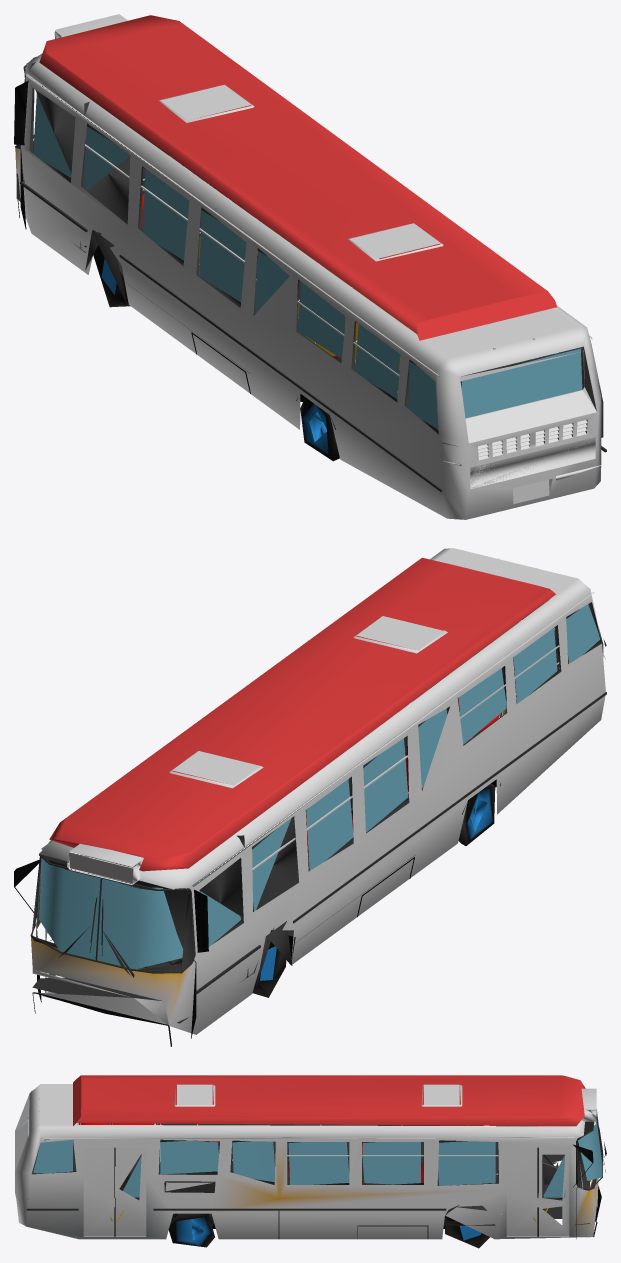
The model's file is town_bus_lod1.gltf.
3 views of the same model, one above another, from view 1: azimuth 30°, elevation 25°; view 2: azimuth 150°, elevation 25°; view 3: azimuth 270°, elevation 25° (orthographic). The views are drawn at different scales.
Visible parts, largest first — view 1: Body; view 2: Body; view 3: Body.
Part boxes in pixels (x1,y1,x2,y2): Body: [14, 14, 606, 519]; Body: [14, 548, 606, 1046]; Body: [15, 1075, 606, 1248].
Bounding box in the file's own units: 2.79 × 2.93 × 11.93.
